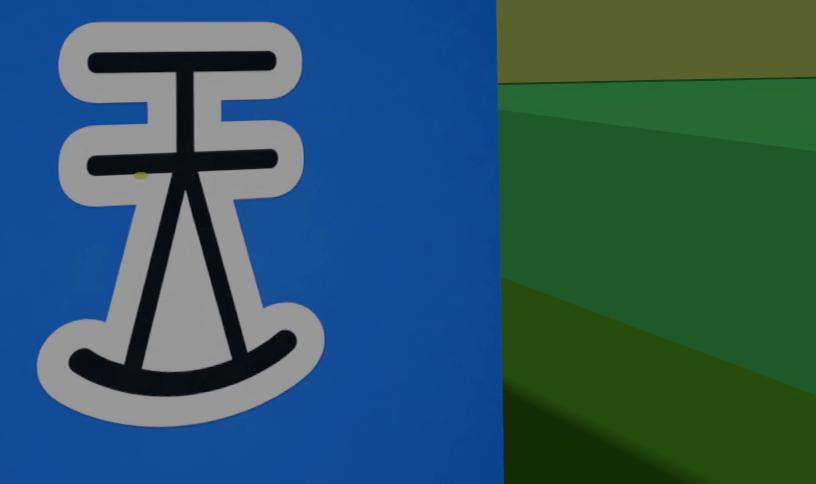KFS_REAL: (0, 0, 500, 483), (37, 23, 324, 426)
